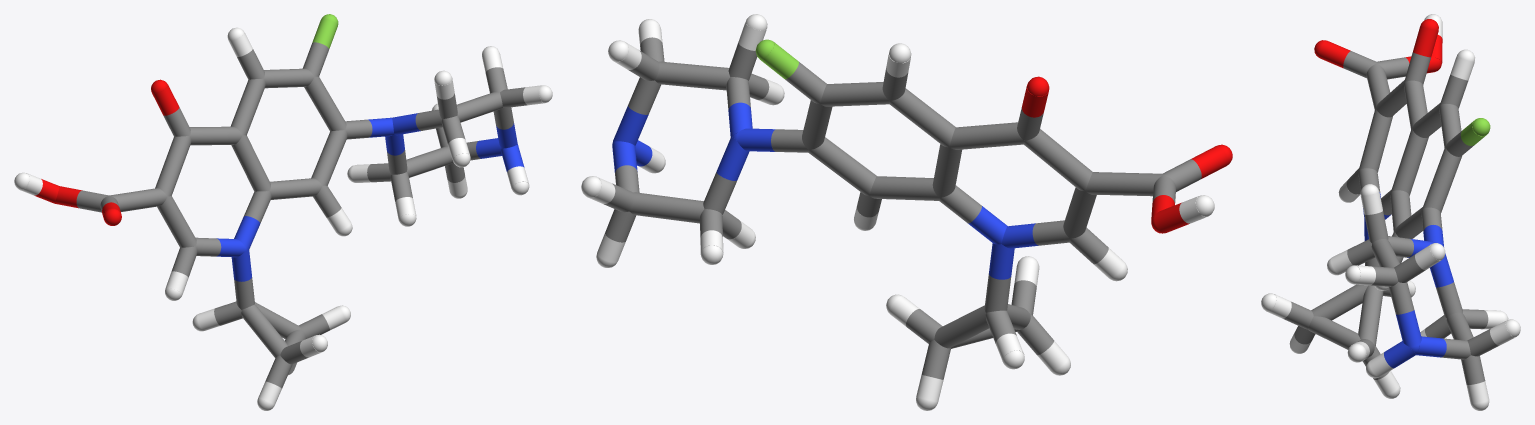
Rendered from Ciprofloxacin.dae.
3 views of the same model, side by side, from view 1: azimuth 30°, elevation 25°; view 2: azimuth 150°, elevation 25°; view 3: azimuth 270°, elevation 25° (orthographic). The views are drawn at different scales.
Parts seen in each view (by area): view 1: subnode_48, subnode_58, subnode_65, subnode_55, subnode_66, subnode_60, subnode_47, subnode_59, subnode_61, subnode_46, subnode_62, subnode_73 (+17 smaller); view 2: subnode_48, subnode_78, subnode_73, subnode_66, subnode_61, subnode_46, subnode_60, subnode_59, subnode_62, subnode_56, subnode_58, subnode_47 (+29 smaller); view 3: subnode_58, subnode_65, subnode_47, subnode_56, subnode_55, subnode_57, subnode_61, subnode_62, subnode_46, subnode_76, subnode_59, subnode_48 (+47 smaller).
Boxes of the visible parts, bbox=[...] form: subnode_48: bbox=[155, 135, 191, 196]; subnode_58: bbox=[231, 135, 270, 191]; subnode_65: bbox=[304, 76, 346, 131]; subnode_55: bbox=[241, 304, 288, 357]; subnode_66: bbox=[311, 130, 347, 185]; subnode_60: bbox=[230, 78, 265, 135]; subnode_47: bbox=[157, 196, 196, 247]; subnode_59: bbox=[270, 178, 321, 199]; subnode_61: bbox=[189, 126, 242, 145]; subnode_46: bbox=[109, 188, 166, 211]; subnode_62: bbox=[264, 68, 314, 88]; subnode_73: bbox=[406, 146, 453, 177]; subnode_48: bbox=[1023, 129, 1092, 191]; subnode_78: bbox=[655, 61, 729, 90]; subnode_73: bbox=[630, 192, 704, 223]; subnode_66: bbox=[808, 137, 876, 195]; subnode_61: bbox=[949, 122, 1023, 149]; subnode_46: bbox=[1085, 172, 1162, 196]; subnode_60: bbox=[889, 88, 955, 147]; subnode_59: bbox=[869, 176, 939, 200]; subnode_62: bbox=[820, 82, 889, 106]; subnode_56: bbox=[934, 305, 989, 348]; subnode_58: bbox=[932, 144, 961, 197]; subnode_47: bbox=[1063, 187, 1096, 238]; subnode_58: bbox=[1391, 128, 1428, 195]; subnode_65: bbox=[1422, 147, 1461, 213]; subnode_47: bbox=[1359, 108, 1392, 172]; subnode_56: bbox=[1358, 285, 1383, 345]; subnode_55: bbox=[1311, 284, 1367, 320]; subnode_57: bbox=[1307, 316, 1360, 349]; subnode_61: bbox=[1404, 80, 1427, 129]; subnode_62: bbox=[1439, 104, 1461, 147]; subnode_46: bbox=[1366, 63, 1390, 109]; subnode_76: bbox=[1396, 310, 1421, 347]; subnode_59: bbox=[1390, 190, 1411, 231]; subnode_48: bbox=[1376, 80, 1406, 117].
Size of the model in its own units: 12.59 by 7.81 by 5.4.
